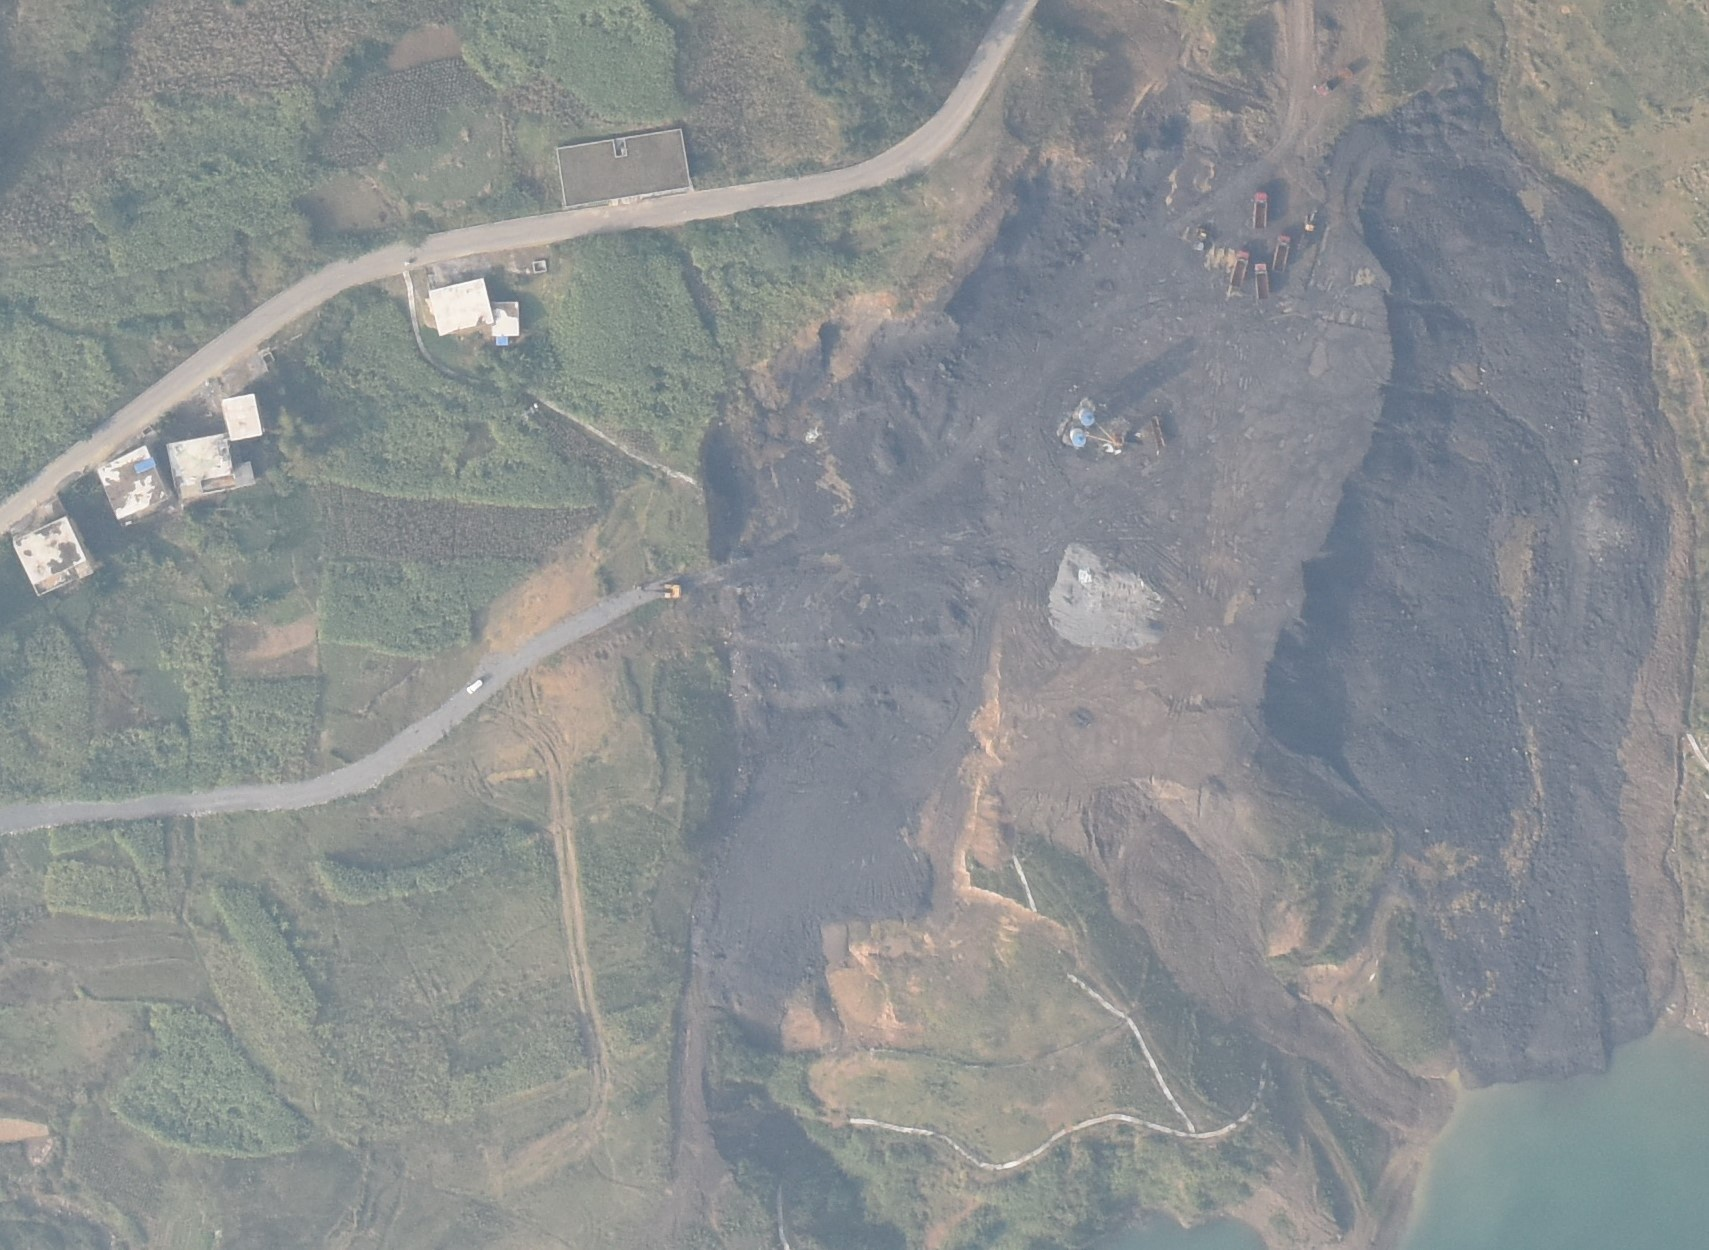building: (544, 125, 691, 211), (93, 441, 175, 523), (166, 431, 260, 502), (9, 515, 92, 590), (425, 276, 496, 338), (220, 391, 265, 441), (486, 299, 525, 336)
prefabricated-house: (130, 456, 165, 476), (494, 330, 510, 352)
quarry: (735, 89, 1452, 993)
vehicle: (629, 580, 682, 606), (1249, 186, 1272, 236), (1226, 249, 1253, 292), (1253, 263, 1276, 303), (1270, 234, 1290, 273), (462, 674, 487, 697)
